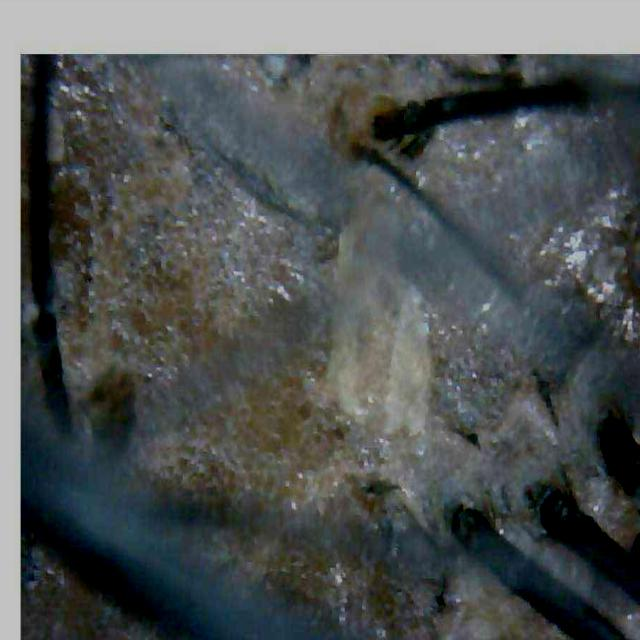d: (329, 201, 431, 434)
